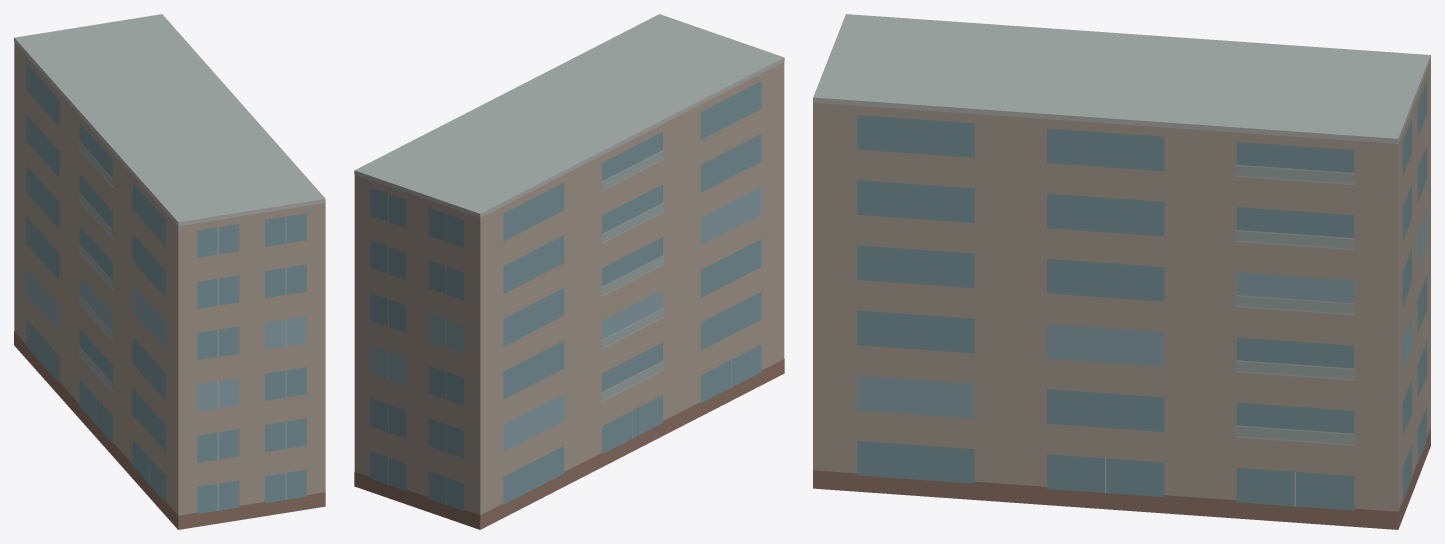
File: survey-upis-32879406.glb
3 renders of one model, left to right at view 1: azimuth 30°, elevation 25°; view 2: azimuth 150°, elevation 25°; view 3: azimuth 270°, elevation 25°, orthographic. The views are drawn at different scales.
Visible parts, largest first — view 1: survey-upis-32879406.tmp; view 2: survey-upis-32879406.tmp; view 3: survey-upis-32879406.tmp.
Part boxes in pixels (<box>): survey-upis-32879406.tmp: <box>14,14,325,529</box>; survey-upis-32879406.tmp: <box>354,14,784,529</box>; survey-upis-32879406.tmp: <box>813,14,1430,529</box>.
Bounding box in the file's own units: 12.68 × 18.5 × 26.5.
